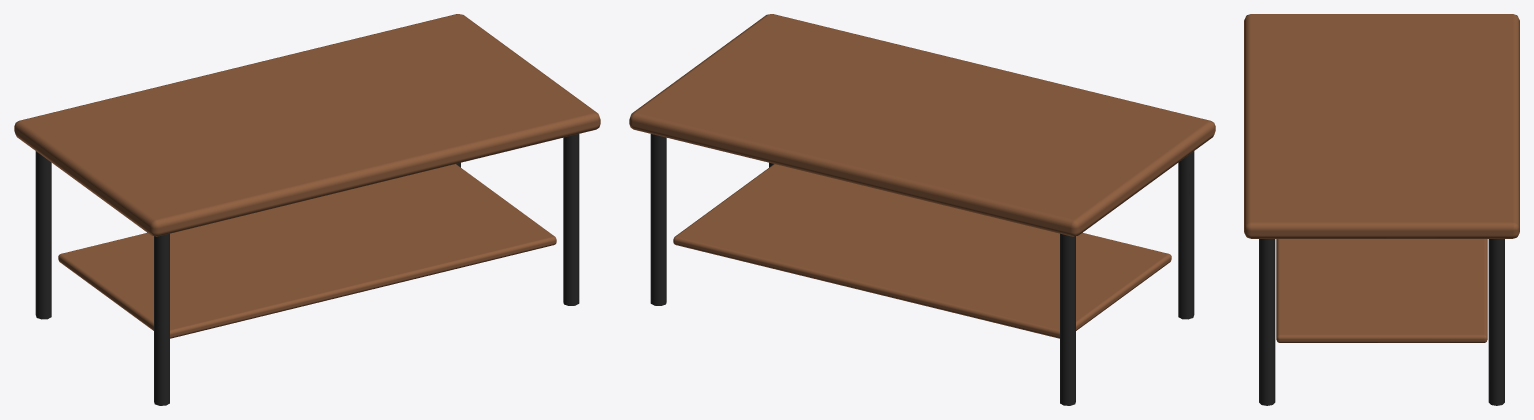
3 views of the same model, side by side, from view 1: azimuth 30°, elevation 25°; view 2: azimuth 150°, elevation 25°; view 3: azimuth 270°, elevation 25° (orthographic). The views are drawn at different scales.
Parts seen in each view (by area): view 1: top, shelf, leg-4, leg-1, leg-3; view 2: top, shelf, leg-2, leg-3, leg-1; view 3: top, shelf, leg-2, leg-4.
Boxes of the visible parts, bbox=[...] form: top: bbox=[14, 14, 600, 236]; shelf: bbox=[58, 164, 556, 338]; leg-4: bbox=[563, 134, 579, 305]; leg-1: bbox=[35, 151, 51, 319]; leg-3: bbox=[154, 233, 169, 405]; top: bbox=[629, 14, 1215, 236]; shelf: bbox=[673, 164, 1171, 338]; leg-2: bbox=[650, 134, 666, 305]; leg-3: bbox=[1178, 151, 1194, 319]; leg-1: bbox=[1060, 233, 1075, 405]; top: bbox=[1244, 14, 1519, 238]; shelf: bbox=[1276, 239, 1487, 342]; leg-2: bbox=[1488, 239, 1504, 405]; leg-4: bbox=[1259, 239, 1275, 405].
Bounding box in the file's own units: 1.1 × 0.45 × 0.6.
